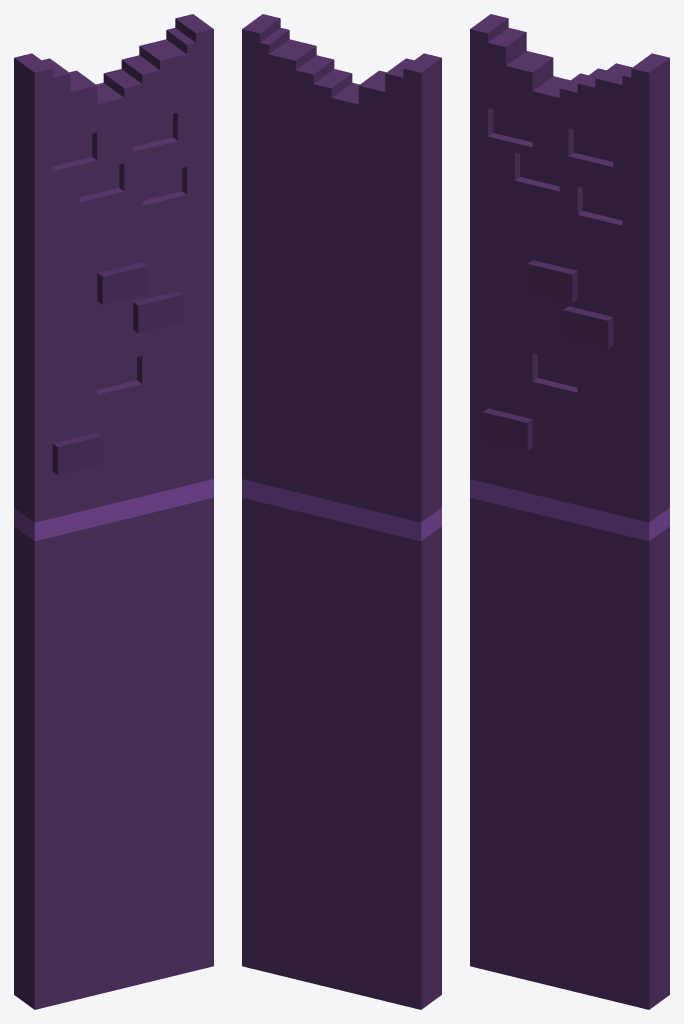
Rendered from wall3.obj.
3 renders of one model, left to right at view 1: azimuth 30°, elevation 25°; view 2: azimuth 150°, elevation 25°; view 3: azimuth 330°, elevation 25°, orthographic.
Bounding box in the file's own units: 2 × 10 × 0.5.
1 material, 1 textured.
